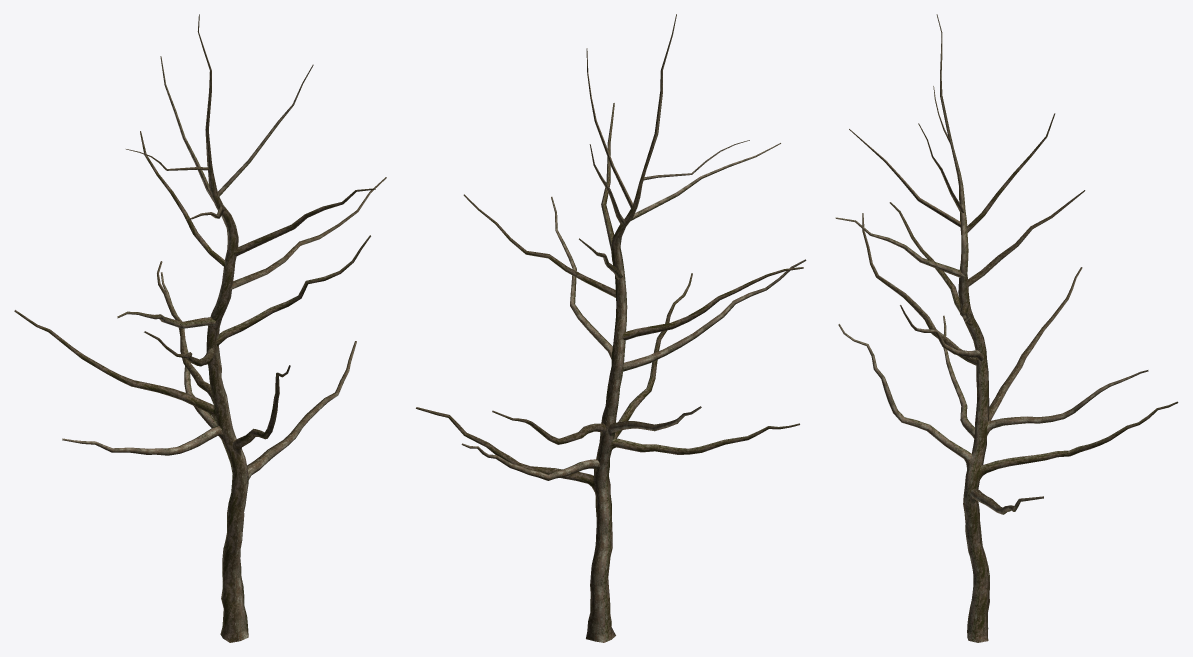
Rendered from tree_dead_oak.glb.
3 views of the same model, side by side, from view 1: azimuth 30°, elevation 25°; view 2: azimuth 150°, elevation 25°; view 3: azimuth 270°, elevation 25° (orthographic). The views are drawn at different scales.
Parts seen in each view (by area): view 1: tree_dead_oak; view 2: tree_dead_oak; view 3: tree_dead_oak.
Boxes of the visible parts, <box> form: tree_dead_oak: <box>14,14,386,642</box>; tree_dead_oak: <box>416,14,806,642</box>; tree_dead_oak: <box>835,14,1178,642</box>.
Size of the model in its own units: 18.01 by 32.12 by 16.73.
Materials: 1 (1 with a texture image).
